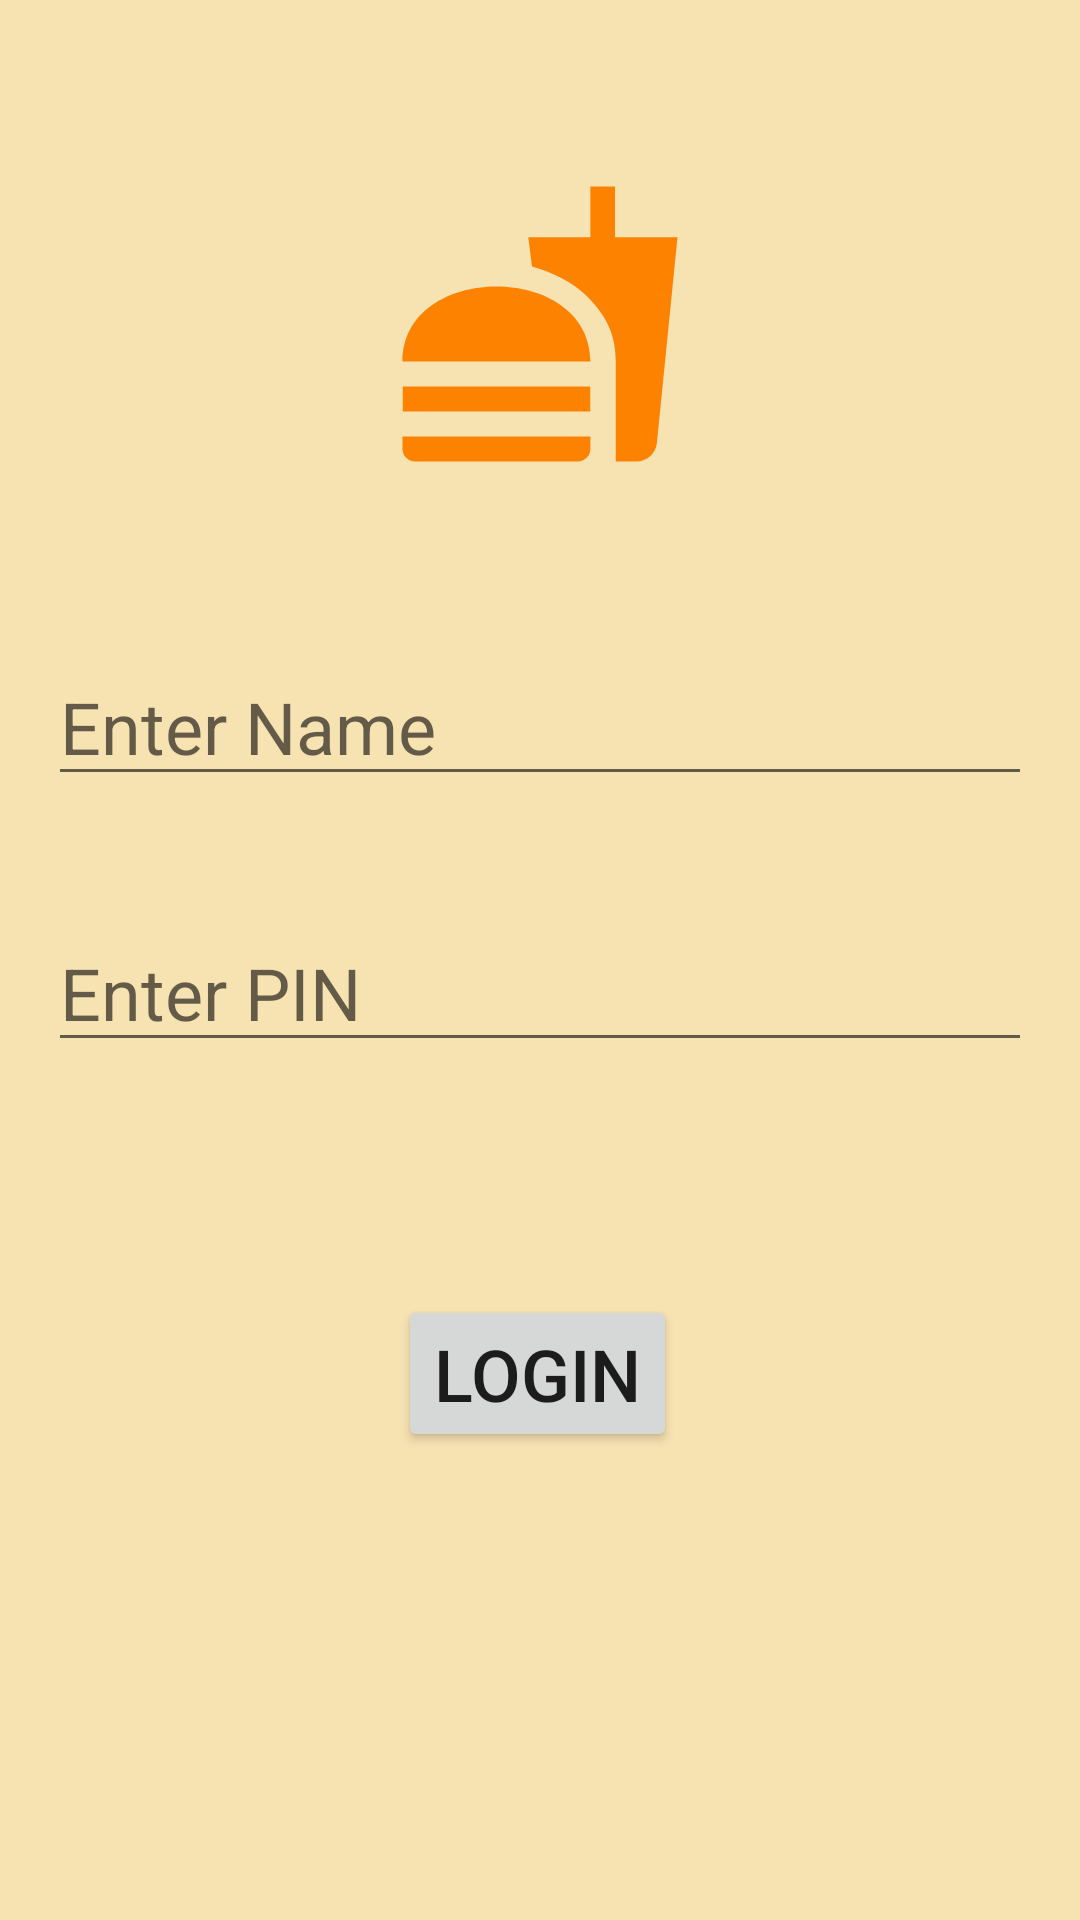

Screen size 1080w x 1920h. Icon name, then its center in pixels as [x,y]:
fastfood: [540,324]
